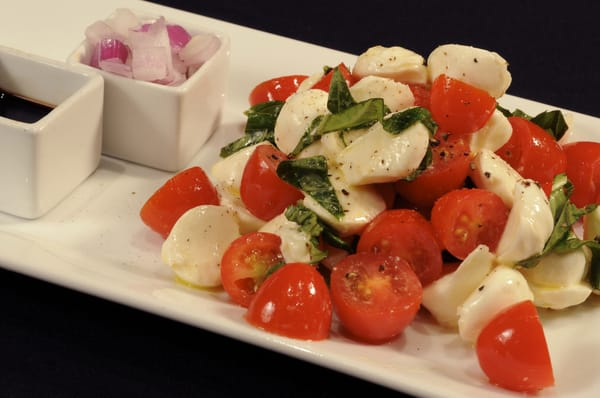sushi: (6, 42, 599, 389)
